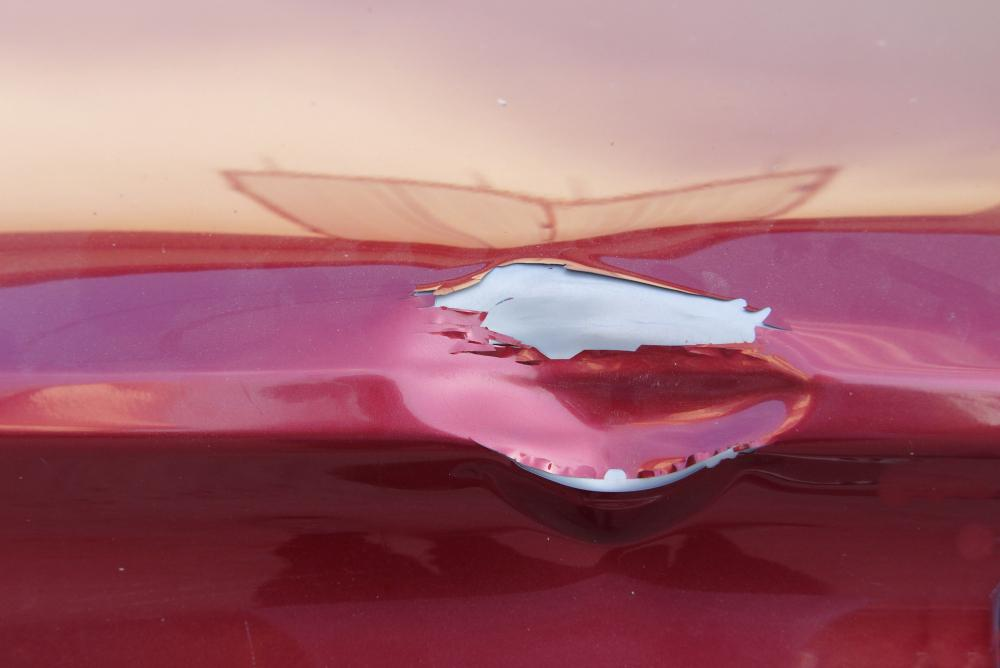dent: (374, 255, 813, 492)
